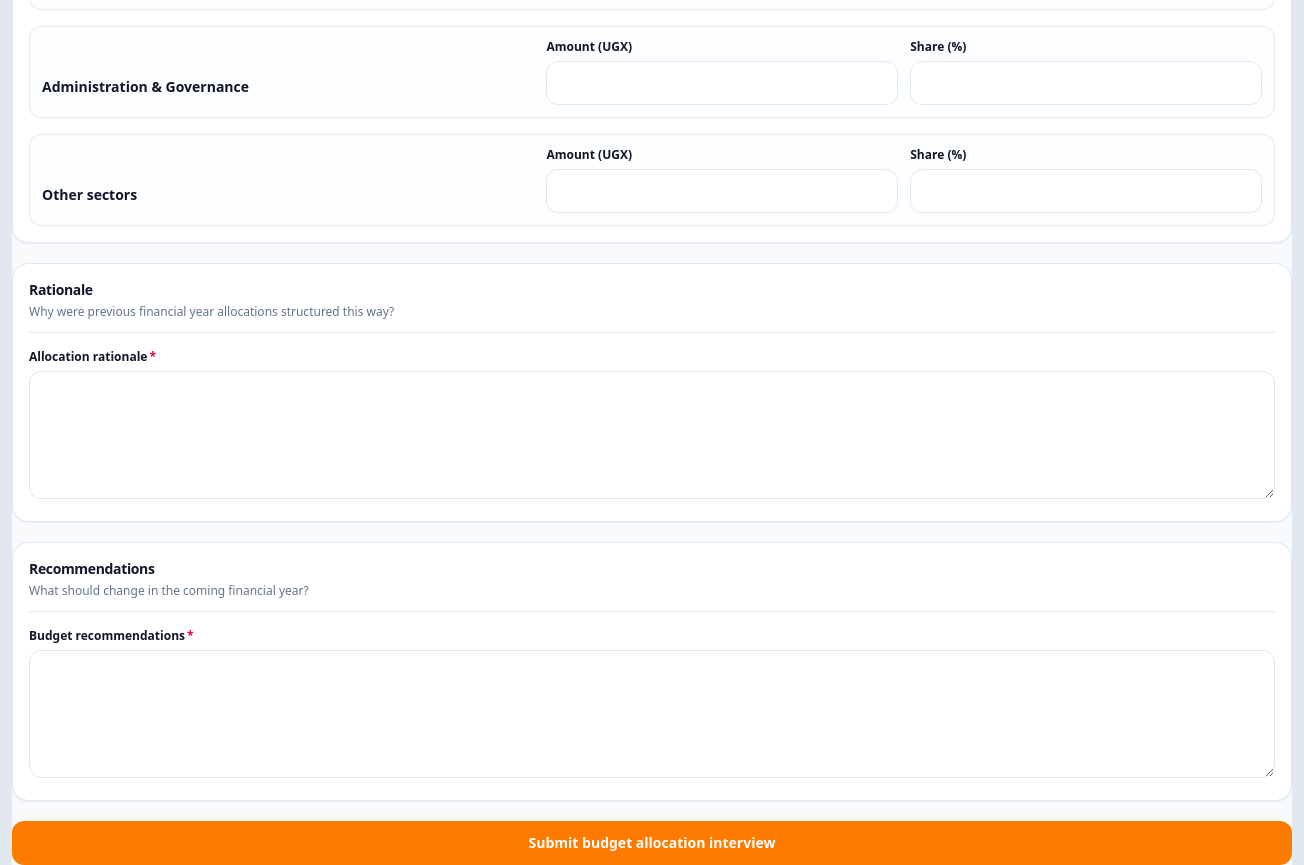
Scenario: LgoBudgetAllocationForm › blocks submit and shows validation errors when required groups are empty
The image size is (1304, 865).
(page scrolled)
Click the button "Submit budget allocation interview" at {"x": 652, "y": 842}, box [12, 820, 1292, 864]
(page scrolled)
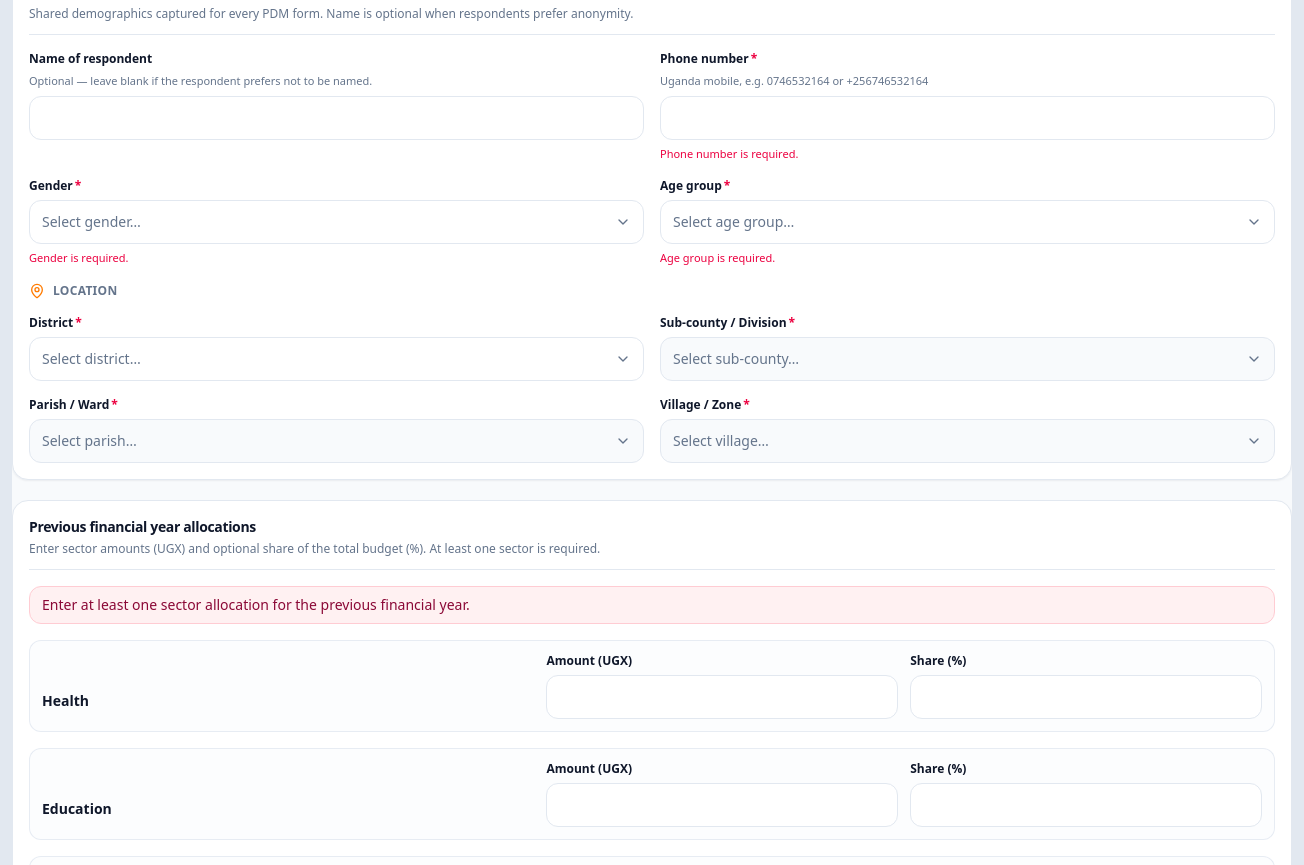
Check: the text "Enter at least one sector allocation for the previous financial year." is shown, box [29, 586, 1275, 624]
